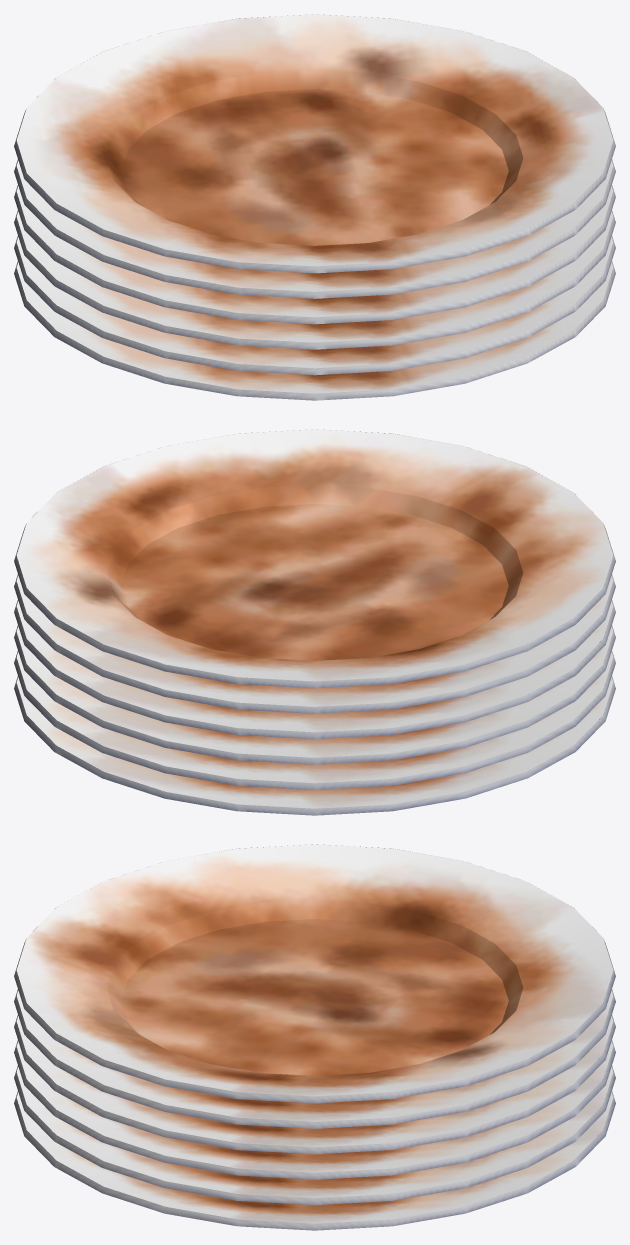
The model's file is dirtyPlate.glb.
3 renders of one model, top to bottom at view 1: azimuth 30°, elevation 25°; view 2: azimuth 150°, elevation 25°; view 3: azimuth 270°, elevation 25°, orthographic.
Parts seen in each view (by area): view 1: plate.005, plate.001, plate.004, plate.002, plate, plate.003; view 2: plate.005, plate.001, plate.004, plate.002, plate, plate.003; view 3: plate.005, plate.001, plate.004, plate.002, plate.003, plate.
Boxes of the visible parts, x1,y1,x2,y2 form: plate.005: [14, 14, 615, 273]; plate.001: [14, 236, 615, 375]; plate.004: [14, 159, 615, 298]; plate.002: [14, 210, 615, 349]; plate: [14, 261, 615, 400]; plate.003: [14, 185, 615, 324]; plate.005: [14, 429, 615, 688]; plate.001: [14, 651, 615, 790]; plate.004: [14, 574, 615, 713]; plate.002: [14, 625, 615, 764]; plate: [14, 676, 615, 815]; plate.003: [14, 600, 615, 739]; plate.005: [14, 844, 615, 1103]; plate.001: [14, 1066, 615, 1205]; plate.004: [14, 989, 615, 1128]; plate.002: [14, 1040, 615, 1179]; plate.003: [14, 1015, 615, 1154]; plate: [14, 1091, 615, 1230].
Size of the model in its own units: 1.5 by 0.4593 by 1.5.
Materials: 2 (2 with a texture image).
